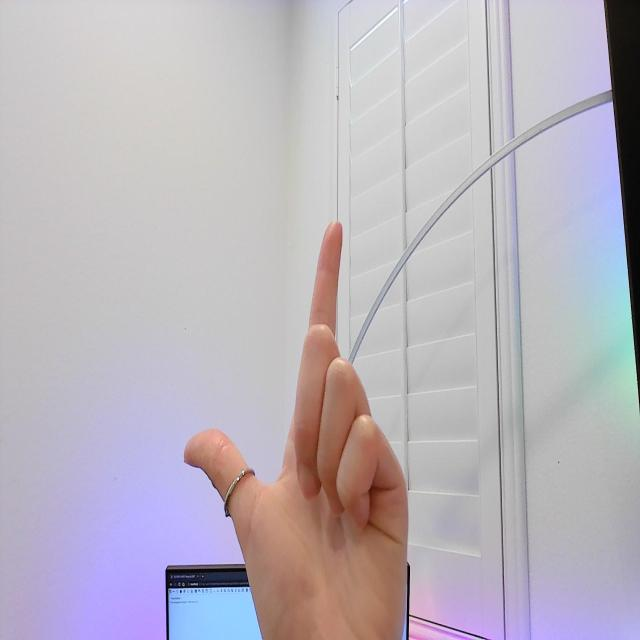L: (178, 217, 410, 639)
